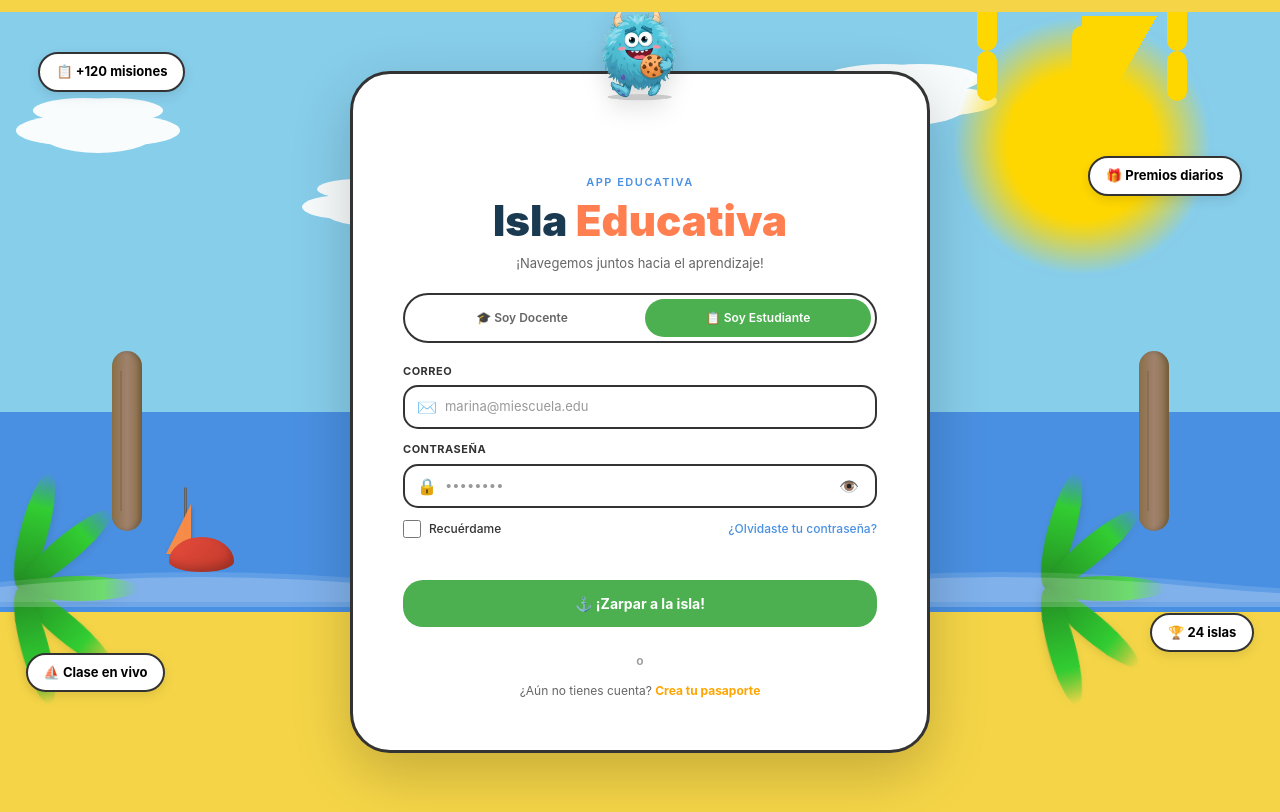
Test: Integration: LoginPage › muestra errores locales de validación
This screenshot has width=1280, height=812.
Click the button "⚓ ¡Zarpar a la isla!".
click(640, 603)  # box [403, 580, 877, 626]
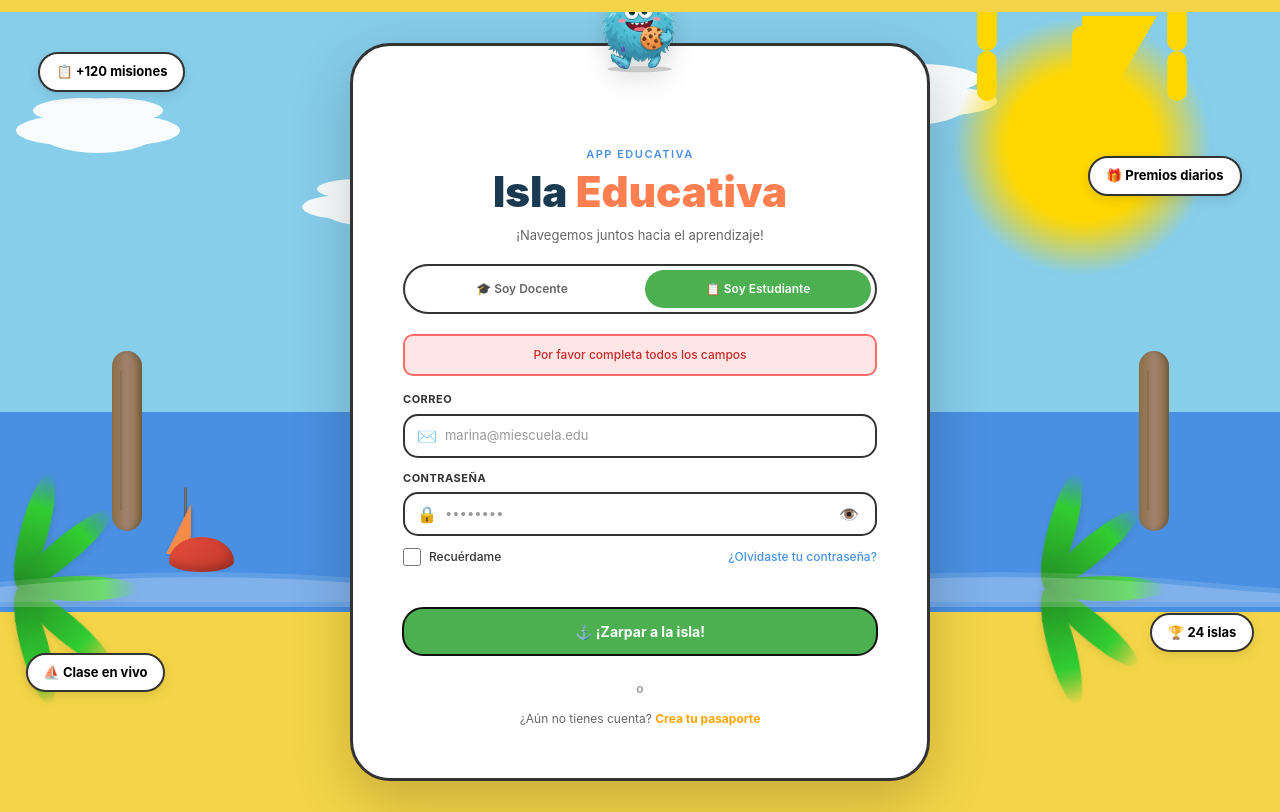
Now the text "Por favor completa todos los campos" is shown, box [403, 334, 877, 376]
